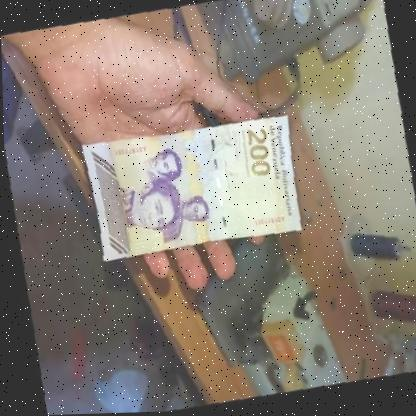two_hundred-front-vef: (77, 103, 309, 271)
